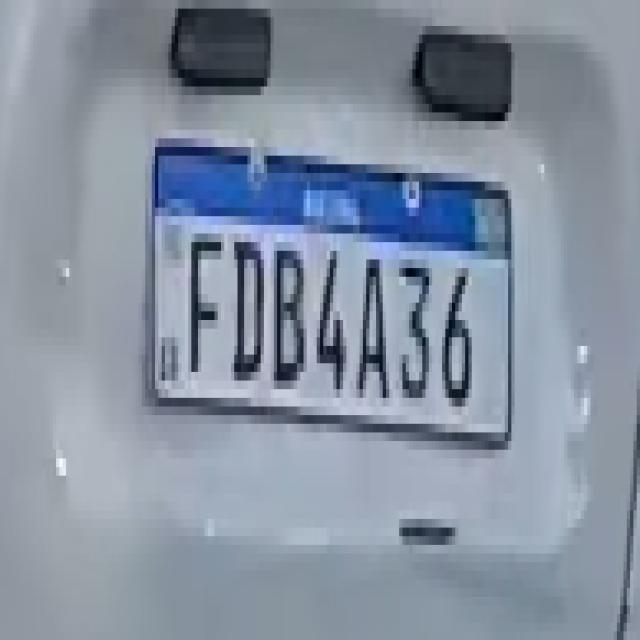Placa_mercosul_carro: (148, 135, 513, 448)
